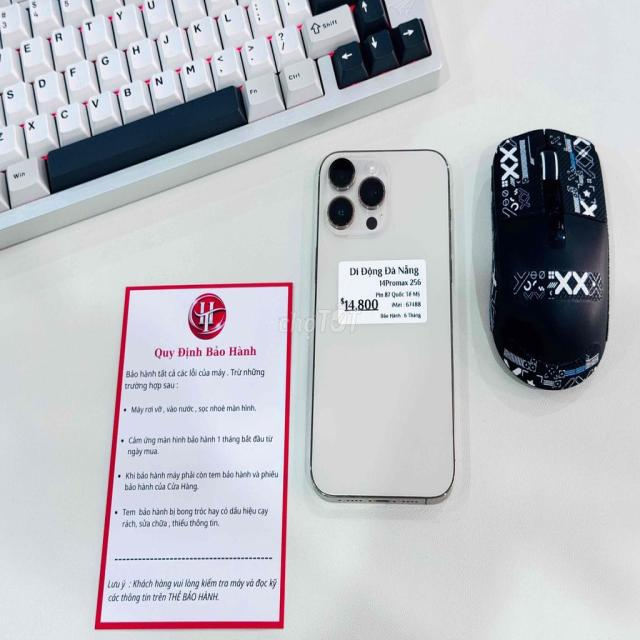gen_14: (302, 140, 462, 521)
